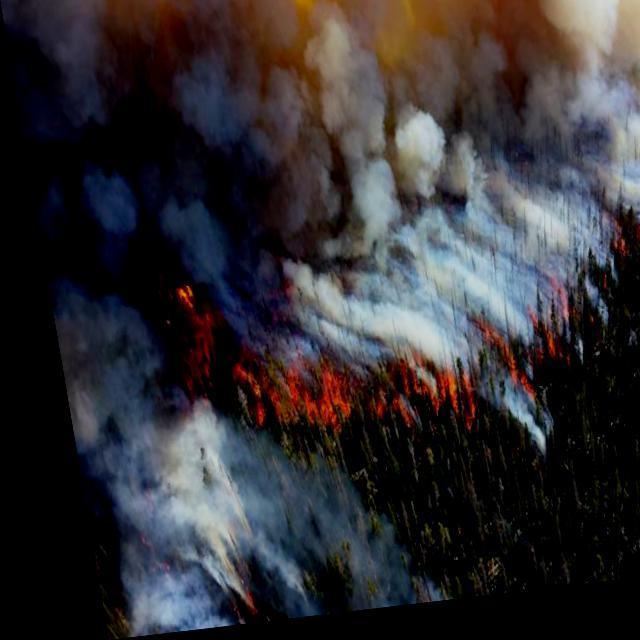Fire: (158, 262, 458, 456)
